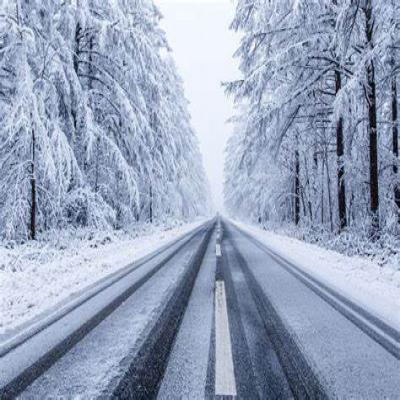iced-road: (0, 218, 400, 400)
